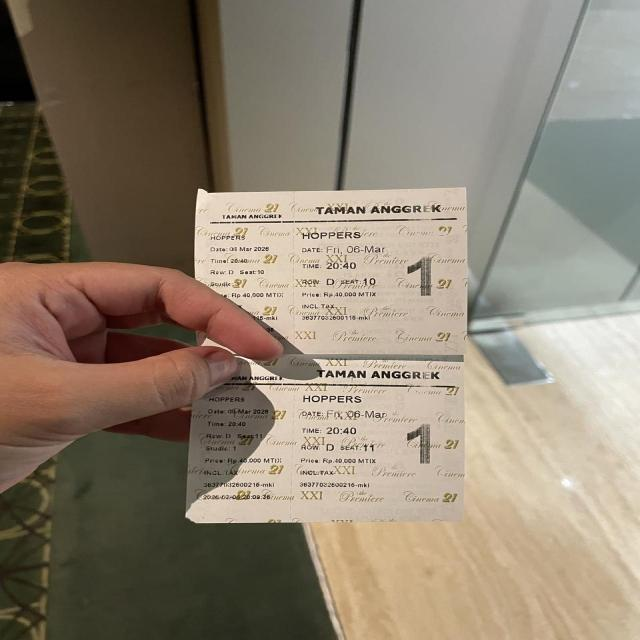date: (210, 246, 277, 252)
store: (313, 201, 447, 215)
total: (300, 290, 384, 300)
